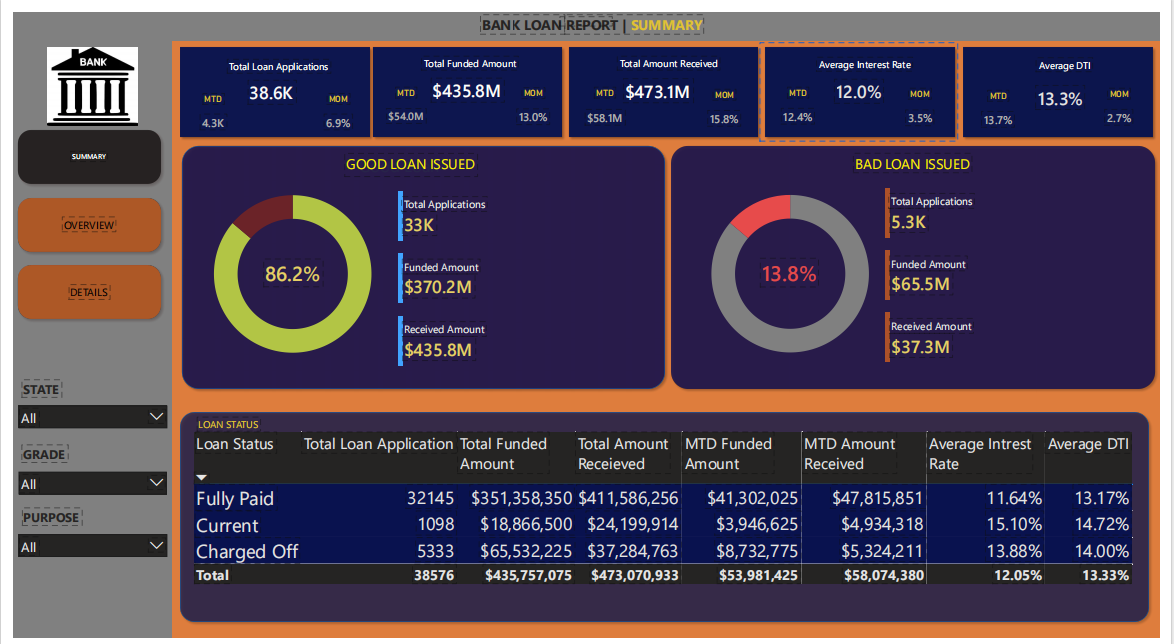

The page's visual inventory and layout, read from the dashboard file:
{"tool":"powerbi","page":{"name":"SUMMARY","canvas":[2200,1200],"ordinal":0},"visuals":[{"type":"shape","box":[0,28.6,304.8,1171.4],"z":0},{"type":"shape","box":[0,0,2200,55.2],"z":1000},{"type":"textbox","box":[895.2,0,455.2,55.2],"z":2000},{"type":"group","id":"g1","title":"Group 1","box":[310.8,58.4,381,188.6],"z":3000},{"type":"group","id":"g2","title":"Group 1","box":[680.8,57.9,380.7,189],"z":4000},{"type":"shape","box":[680.8,57.9,380.7,189],"z":4000,"group":"g2"},{"type":"shape","box":[1058.1,57.9,380,189],"z":4000,"group":"g3"},{"type":"shape","box":[1435.4,57.9,380,189],"z":4000,"group":"g4"},{"type":"shape","box":[1814.7,57.9,380,189.7],"z":4000,"group":"g5"},{"type":"shape","box":[310.8,58.4,381,188.6],"z":4000,"group":"g1"},{"type":"group","id":"g3","title":"Group 1","box":[1058.1,57.9,380,189],"z":5000},{"type":"cardVisual","fields":{"Data":["KPI'S.Total Funded Loan Amount"]},"box":[763.1,108,215.6,79.9],"z":5000,"group":"g2"},{"type":"cardVisual","fields":{"Data":["KPI'S.Total Amount Receieved"]},"box":[1129.8,108,215.6,81.9],"z":5000,"group":"g3"},{"type":"cardVisual","fields":{"Data":["KPI'S.Average Intrest Rate"]},"box":[1516.5,110,215.6,79.9],"z":5000,"group":"g4"},{"type":"cardVisual","fields":{"Data":["KPI'S.Total_Loan_Application"]},"box":[387.5,112.8,215.6,79.9],"z":5000,"group":"g1"},{"type":"cardVisual","fields":{"Data":["KPI'S.Average DTI"]},"box":[1902.3,122.2,215.4,79],"z":5000,"group":"g5"},{"type":"group","id":"g4","title":"Group 1","box":[1435.4,57.9,380,189],"z":6000},{"type":"textbox","box":[772.2,80.1,210.5,39.3],"z":6000,"group":"g2"},{"type":"textbox","box":[1151.7,80.3,214.3,39.7],"z":6000,"group":"g3"},{"type":"textbox","box":[1529,81.5,213.3,41.8],"z":6000,"group":"g4"},{"type":"textbox","box":[1912,83.3,213.7,41.8],"z":6000,"group":"g5"},{"type":"textbox","box":[403.5,86.5,212.9,34.7],"z":6000,"group":"g1"},{"type":"group","id":"g5","title":"Group 1","box":[1814.7,57.9,380,189.7],"z":7000},{"type":"cardVisual","title":"MTD","fields":{"Data":["KPI'S.MTD Loan Amount"]},"box":[687.3,144,133.8,87.8],"z":7000,"group":"g2"},{"type":"cardVisual","title":"MTD","fields":{"Data":["KPI'S.MTD"]},"box":[1067.9,144,135.8,91.8],"z":7000,"group":"g3"},{"type":"cardVisual","title":"MTD","fields":{"Data":["KPI'S.MTD Average interest Rate"]},"box":[1448.6,144,117.8,87.8],"z":7000,"group":"g4"},{"type":"cardVisual","title":"MTD","fields":{"Data":["KPI'S.MTD DTI"]},"box":[1831.3,149.9,119,89],"z":7000,"group":"g5"},{"type":"cardVisual","title":"MTD","fields":{"Data":["KPI'S.Month_to_date_Loanapplication"]},"box":[323.6,156.7,119.8,85.8],"z":7000,"group":"g1"},{"type":"cardVisual","title":"MOM","fields":{"Data":["KPI'S.MOM Loan Amount"]},"box":[938.8,144.6,119,89],"z":8000,"group":"g2"},{"type":"cardVisual","title":"MOM","fields":{"Data":["KPI'S.MOM DTI"]},"box":[2063.3,145.9,119,89],"z":8000,"group":"g5"},{"type":"cardVisual","title":"MOM","fields":{"Data":["KPI'S.MOM Average Interst Rate"]},"box":[1682.2,146,117.8,89.8],"z":8000,"group":"g4"},{"type":"cardVisual","title":"MOM","fields":{"Data":["KPI'S.MOM Amount Received"]},"box":[1303.5,147.9,125,89],"z":8000,"group":"g3"},{"type":"cardVisual","title":"MOM","fields":{"Data":["KPI'S.MOM_Loan_Application"]},"box":[565.2,156.7,117.8,85.8],"z":8000,"group":"g1"},{"type":"textbox","box":[594.9,265.5,293.5,55.9],"z":8000},{"type":"shape","box":[310.7,759.1,1876.8,419.1],"z":8500,"group":"g9"},{"type":"group","id":"g6","title":"Group 2","box":[315.4,247.5,944.3,483.1],"z":9000},{"type":"shape","box":[315.4,247.5,944.3,483.1],"z":9000,"group":"g6"},{"type":"shape","box":[1255.5,248.4,944.5,483],"z":9000,"group":"g7"},{"type":"group","id":"g7","title":"Group 2","box":[1255.5,248.4,944.5,483],"z":10000},{"type":"donutChart","fields":{"Y":["KPI'S.Good Loan Application","KPI'S.Bad Loan Total Application"]},"box":[1297.1,302.4,387.9,398.3],"z":11000},{"type":"donutChart","fields":{"Y":["KPI'S.Good Loan Application","KPI'S.Bad Loan Total Application"]},"box":[342,302.5,387.9,398.3],"z":11000,"group":"g8"},{"type":"textbox","box":[1550.8,266,350,46.9],"z":12000},{"type":"cardVisual","fields":{"Data":["KPI'S.Good Loan %"]},"box":[419.2,442.2,235.6,112.6],"z":12000,"group":"g8"},{"type":"textbox","box":[587.6,266.9,350,46.9],"z":13000,"group":"g8"},{"type":"cardVisual","fields":{"Data":["KPI'S.Bad Loan Application %"]},"box":[1372.1,442.1,235.6,112.6],"z":13000},{"type":"cardVisual","fields":{"Data":["KPI'S.Bad Loan Total Application","KPI'S.Bad Loan Funded Amount","KPI'S.Bad Loan Amount Received"]},"box":[1645.3,306.5,513,394.1],"z":14000},{"type":"group","id":"g8","title":"Group 3","box":[342,266.9,894.6,442.2],"z":15000},{"type":"cardVisual","fields":{"Data":["KPI'S.Good Loan Application","KPI'S.Good Loan Funded Amount","KPI'S.Good Loan Total Recevied Amount"]},"box":[709,312.9,527.6,396.2],"z":15502,"group":"g8"},{"type":"group","id":"g9","title":"Group 2","box":[310.7,759.1,1876.8,419.1],"z":16000},{"type":"pivotTable","fields":{"Rows":["financial_loan.loan_status"],"Values":["KPI'S.Total_Loan_Application","KPI'S.Total Funded Loan Amount","KPI'S.Total Amount Receieved","KPI'S.MTD Loan Funded Amount","KPI'S.MTD Amount Received","KPI'S.Average Intrest Rate","KPI'S.Average DTI"]},"box":[341.6,800.4,1817.4,353.3],"z":17000},{"type":"textbox","box":[351.4,773,144.5,52.7],"z":18000},{"type":"slicer","fields":{"Values":["financial_loan.purpose"]},"box":[0,992.4,304.8,81.9],"z":19000},{"type":"textbox","box":[15.2,946.7,137.1,45.7],"z":20000},{"type":"textbox","box":[14.6,825.8,106.4,45.9],"z":21000},{"type":"textbox","box":[15.2,701,116.2,49.5],"z":22000},{"type":"slicer","fields":{"Values":["financial_loan.grade"]},"box":[0,871.7,304.5,81.3],"z":23000},{"type":"slicer","fields":{"Values":["financial_loan.address_state"]},"box":[0,744.8,304.8,81.9],"z":24000},{"type":"pageNavigator","box":[0,216.7,290.9,382.6],"z":26000},{"type":"image","box":[0,66.7,304.8,150.5],"z":26001}]}

Visuals, with their boxes in screenshot pixels (x1, y1, x2, y2), scaled from the page's 2200x1200 canvas onto the 1174x644 screenshot:
shape: rect(0, 15, 163, 643)
shape: rect(0, 0, 1173, 30)
textbox: rect(478, 0, 721, 30)
"Group 1" group: rect(166, 31, 369, 133)
"Group 1" group: rect(363, 31, 566, 133)
shape: rect(363, 31, 566, 133)
shape: rect(565, 31, 767, 133)
shape: rect(766, 31, 969, 133)
shape: rect(968, 31, 1171, 133)
shape: rect(166, 31, 369, 133)
"Group 1" group: rect(565, 31, 767, 133)
cardVisual - KPI'S.Total Funded Loan Amount: rect(407, 58, 522, 101)
cardVisual - KPI'S.Total Amount Receieved: rect(603, 58, 718, 102)
cardVisual - KPI'S.Average Intrest Rate: rect(809, 59, 924, 102)
cardVisual - KPI'S.Total_Loan_Application: rect(207, 61, 322, 103)
cardVisual - KPI'S.Average DTI: rect(1015, 66, 1130, 108)
"Group 1" group: rect(766, 31, 969, 133)
textbox: rect(412, 43, 524, 64)
textbox: rect(615, 43, 729, 64)
textbox: rect(816, 44, 930, 66)
textbox: rect(1020, 45, 1134, 67)
textbox: rect(215, 46, 329, 65)
"Group 1" group: rect(968, 31, 1171, 133)
"MTD" cardVisual: rect(367, 77, 438, 124)
"MTD" cardVisual: rect(570, 77, 642, 127)
"MTD" cardVisual: rect(773, 77, 836, 124)
"MTD" cardVisual: rect(977, 80, 1041, 128)
"MTD" cardVisual: rect(173, 84, 237, 130)
"MOM" cardVisual: rect(501, 78, 564, 125)
"MOM" cardVisual: rect(1101, 78, 1165, 126)
"MOM" cardVisual: rect(898, 78, 961, 127)
"MOM" cardVisual: rect(696, 79, 762, 127)
"MOM" cardVisual: rect(302, 84, 364, 130)
textbox: rect(317, 142, 474, 172)
shape: rect(166, 407, 1167, 632)
"Group 2" group: rect(168, 133, 672, 392)
shape: rect(168, 133, 672, 392)
shape: rect(670, 133, 1173, 393)
"Group 2" group: rect(670, 133, 1173, 393)
donutChart - KPI'S.Good Loan Application x KPI'S.Bad Loan Total Application: rect(692, 162, 899, 376)
donutChart - KPI'S.Good Loan Application x KPI'S.Bad Loan Total Application: rect(183, 162, 390, 376)
textbox: rect(828, 143, 1014, 168)
cardVisual - KPI'S.Good Loan %: rect(224, 237, 349, 298)
textbox: rect(314, 143, 500, 168)
cardVisual - KPI'S.Bad Loan Application %: rect(732, 237, 858, 298)
cardVisual - KPI'S.Bad Loan Total Application x KPI'S.Bad Loan Funded Amount: rect(878, 164, 1152, 376)
"Group 3" group: rect(183, 143, 660, 381)
cardVisual - KPI'S.Good Loan Application x KPI'S.Good Loan Funded Amount: rect(378, 168, 660, 381)
"Group 2" group: rect(166, 407, 1167, 632)
pivotTable - financial_loan.loan_status x KPI'S.Total_Loan_Application: rect(182, 430, 1152, 619)
textbox: rect(188, 415, 265, 443)
slicer - financial_loan.purpose: rect(0, 533, 163, 577)
textbox: rect(8, 508, 81, 533)
textbox: rect(8, 443, 65, 468)
textbox: rect(8, 376, 70, 403)
slicer - financial_loan.grade: rect(0, 468, 162, 511)
slicer - financial_loan.address_state: rect(0, 400, 163, 444)
pageNavigator: rect(0, 116, 155, 322)
image: rect(0, 36, 163, 117)
